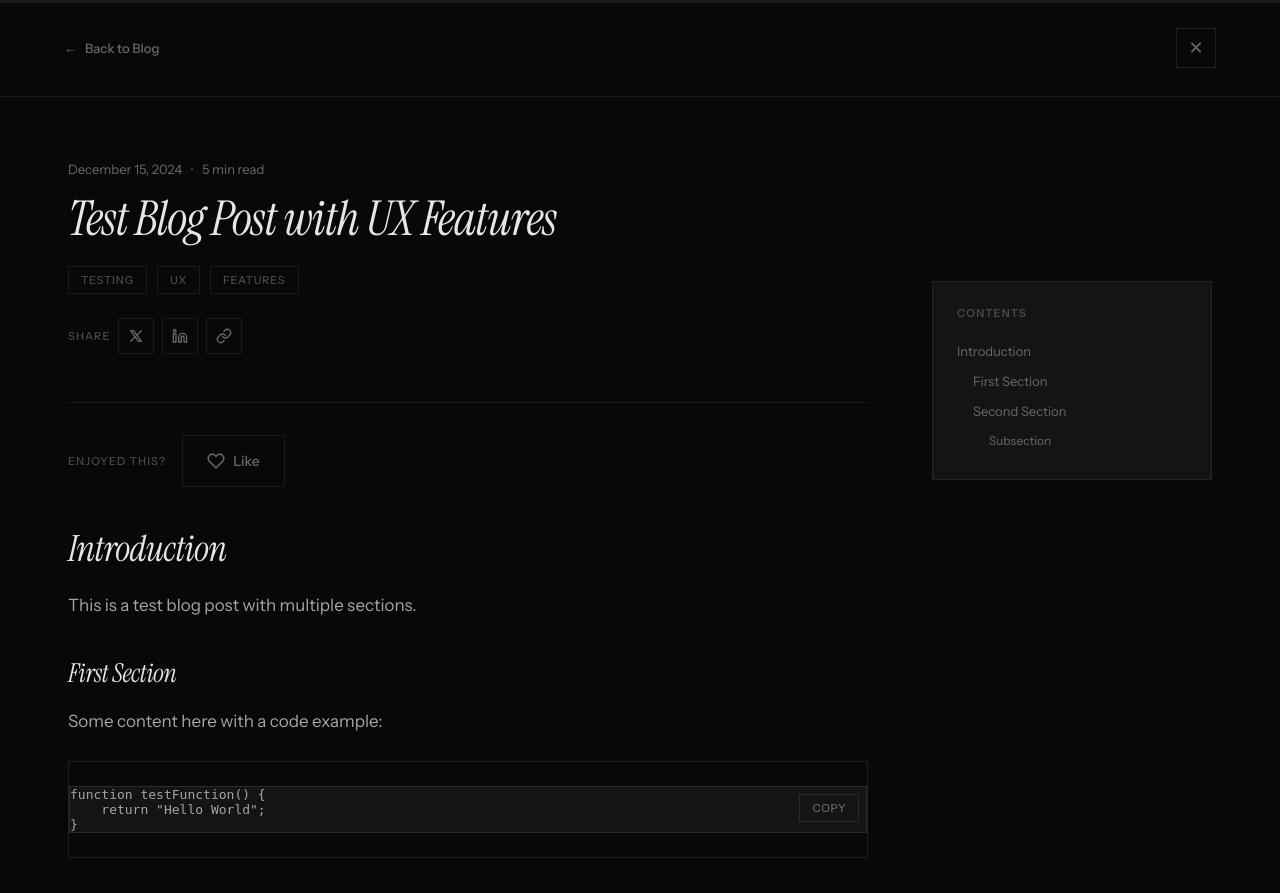
Test: BlogPostModal - UX Features › Like Functionality › should increment like count when clicked
The image size is (1280, 893).
Click the button with aria-label "Like this post" at point(234, 461), box top-left (182, 435), bottom-right (285, 487)
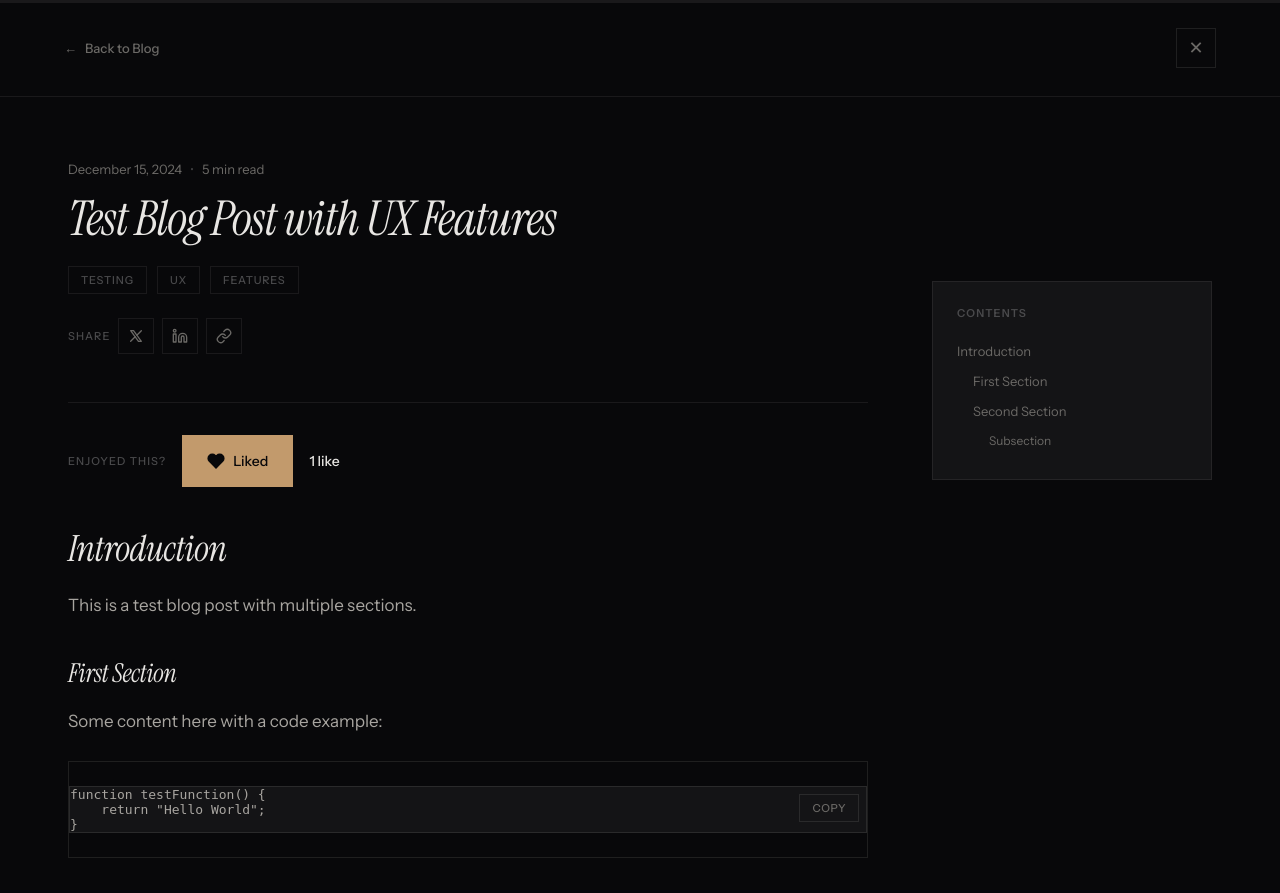
Check: the button with aria-label "Unlike this post" is shown, box top-left (182, 435), bottom-right (293, 487)
Check: the text "1 like" is shown, box top-left (309, 452), bottom-right (340, 470)
